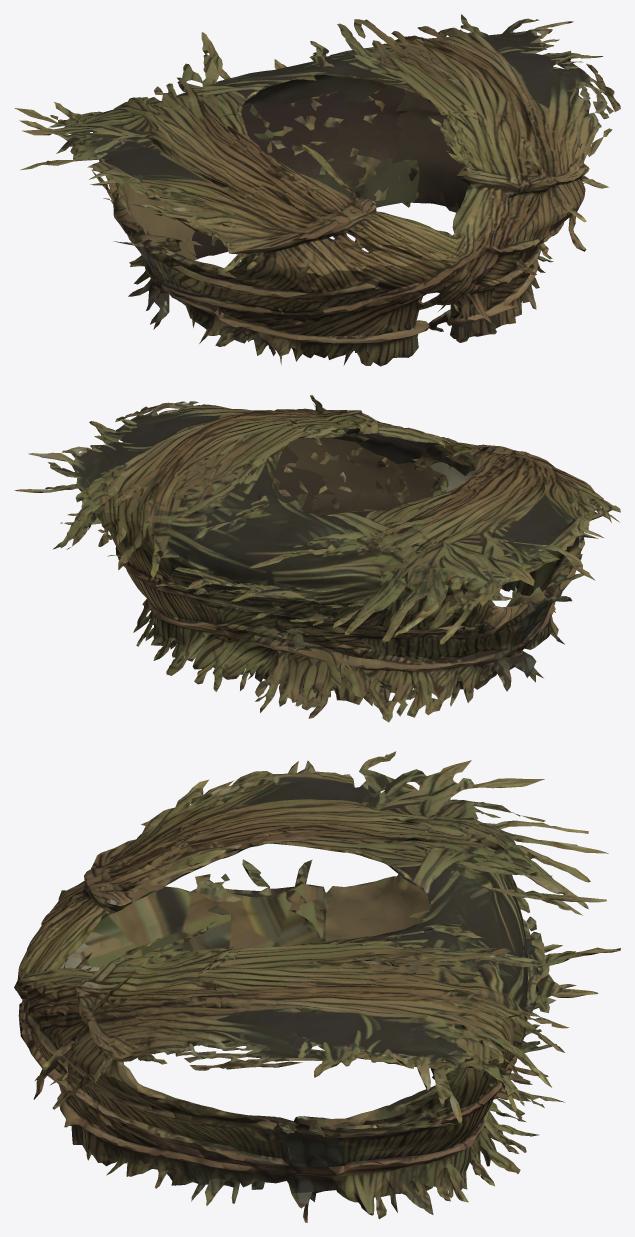
File: armor_grass_item.glb
The picture shows the model from 3 angles, top to bottom: view 1: azimuth 30°, elevation 25°; view 2: azimuth 150°, elevation 25°; view 3: azimuth 270°, elevation 25°; orthographic projection. The views are drawn at different scales.
Visible parts, largest first — view 1: armor_grass_item; view 2: armor_grass_item; view 3: armor_grass_item.
Boxes of the visible parts, box(x1,y1,x2,y2) form: armor_grass_item: box(14, 14, 620, 366); armor_grass_item: box(14, 395, 620, 722); armor_grass_item: box(14, 751, 620, 1222).
Bounding box in the file's own units: 0.4 × 0.1222 × 0.3009.
1 material, 1 textured.
